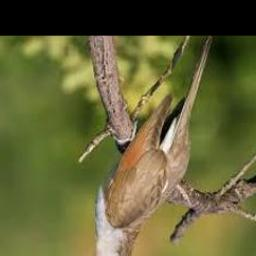Cuckoo: (70, 37, 214, 256)
